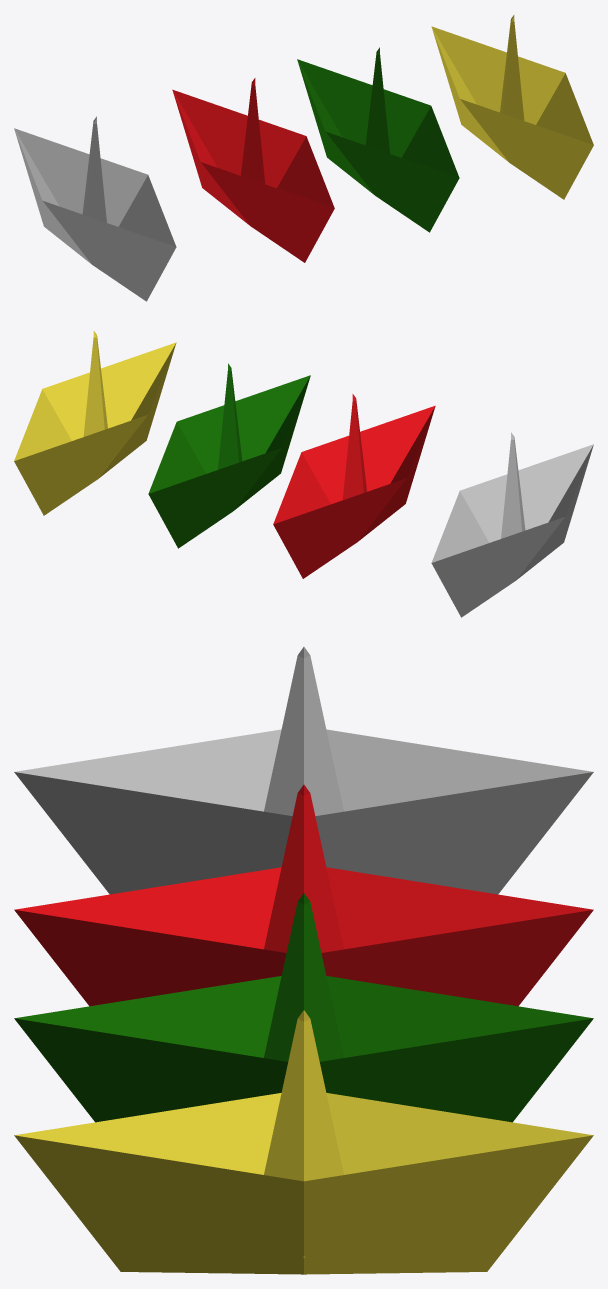
File: Boats.fbx
3 renders of one model, top to bottom at view 1: azimuth 30°, elevation 25°; view 2: azimuth 150°, elevation 25°; view 3: azimuth 270°, elevation 25°, orthographic. The views are drawn at different scales.
Parts seen in each view (by area): view 1: Boat.002, Boat, Boat.001, Boat.003; view 2: Boat.002, Boat, Boat.001, Boat.003; view 3: Boat, Boat.001, Boat.003, Boat.002.
Boxes of the visible parts, left/top/right/bottom form: Boat.002: left=172, top=78, right=334, bottom=262; Boat: left=431, top=15, right=593, bottom=199; Boat.001: left=14, top=116, right=176, bottom=301; Boat.003: left=297, top=47, right=459, bottom=232; Boat.002: left=273, top=394, right=435, bottom=578; Boat: left=14, top=331, right=176, bottom=515; Boat.001: left=431, top=432, right=593, bottom=617; Boat.003: left=148, top=363, right=310, bottom=548; Boat: left=14, top=1010, right=593, bottom=1274; Boat.001: left=14, top=647, right=593, bottom=894; Boat.003: left=14, top=893, right=593, bottom=1122; Boat.002: left=14, top=784, right=593, bottom=1006.
Bounding box in the file's own units: 688 × 186 × 370.
